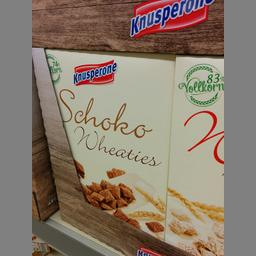cereal: (36, 47, 178, 239), (164, 55, 222, 255)
